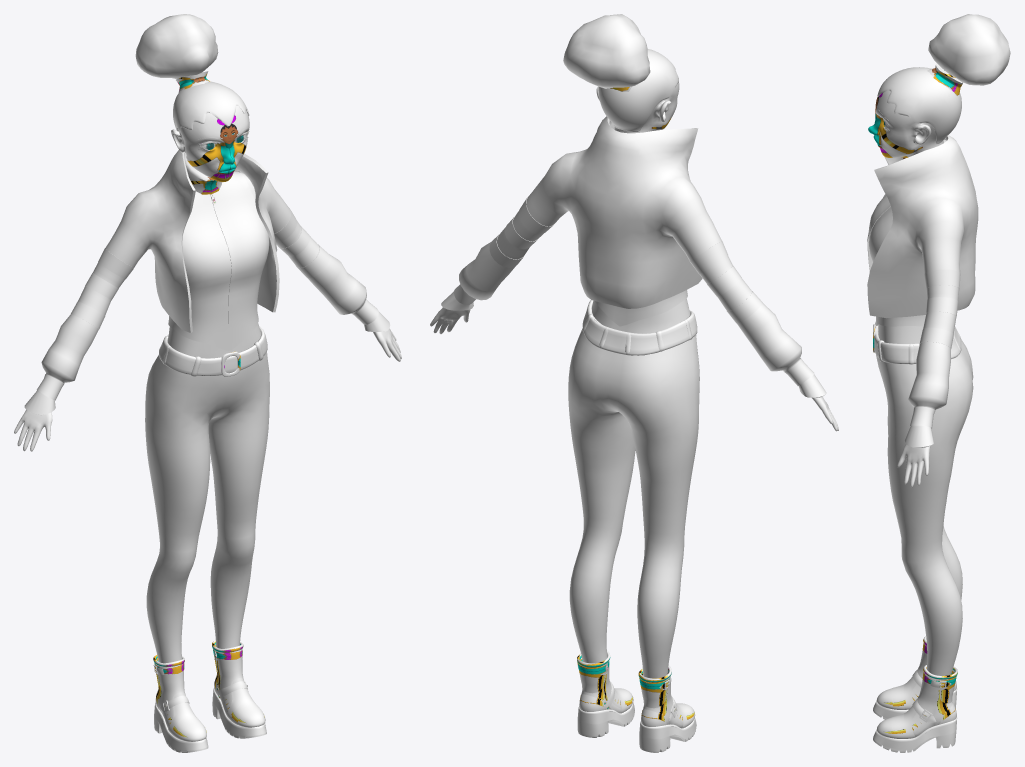
Rendered from Maya_meshUnica.fbx.
The picture shows the model from 3 angles, left to right: view 1: azimuth 30°, elevation 25°; view 2: azimuth 150°, elevation 25°; view 3: azimuth 270°, elevation 25°; orthographic projection. The views are drawn at different scales.
Visible parts, largest first — view 1: Casaco_MAYA.002; view 2: Casaco_MAYA.002; view 3: Casaco_MAYA.002.
Boxes of the visible parts, left/top/right/bottom form: Casaco_MAYA.002: left=14, top=14, right=401, bottom=752; Casaco_MAYA.002: left=430, top=14, right=838, bottom=752; Casaco_MAYA.002: left=867, top=14, right=1010, bottom=752.
Bounding box in the file's own units: 106 × 185 × 33.62.
